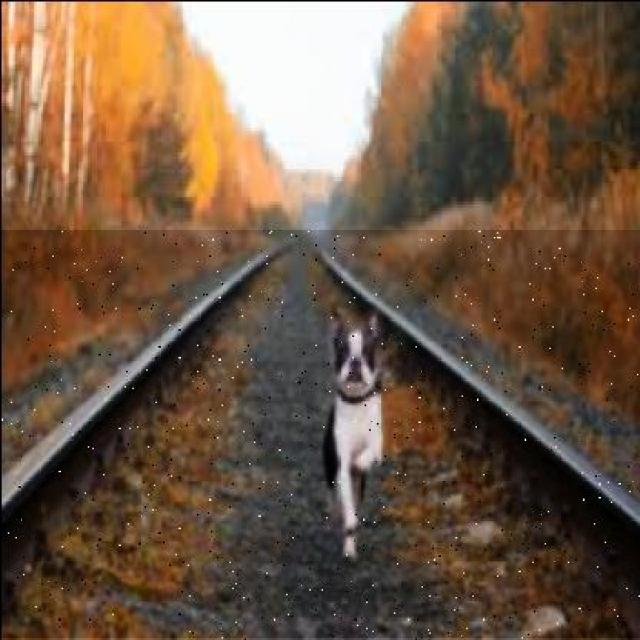rail: (1, 231, 640, 639)
